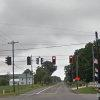Traffic light: (4, 51, 67, 69)
